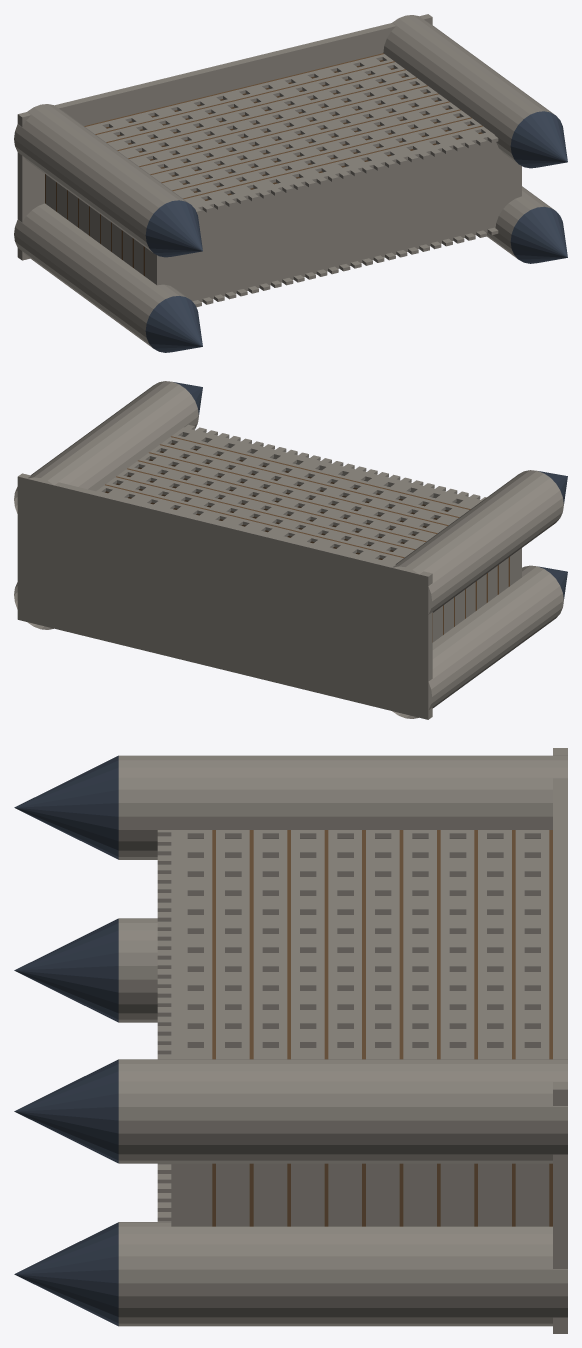
File: slott_10etasjer.obj
The picture shows the model from 3 angles, top to bottom: view 1: azimuth 30°, elevation 25°; view 2: azimuth 150°, elevation 25°; view 3: azimuth 270°, elevation 25°; orthographic projection. The views are drawn at different scales.
Parts seen in each view (by area): view 1: Tak_Krenelering, Fundament, Hjornetarn_4, Hjornetarn_1, Hjornetarn_3, Etasje_05_Vegger, Etasje_02_Vegger, Etasje_06_Vegger, Etasje_08_Vegger, Etasje_03_Vegger, Etasje_04_Vegger, Etasje_07_Vegger (+18 smaller); view 2: Fundament, Hjornetarn_4, Hjornetarn_1, Hjornetarn_3, Etasje_08_Vegger, Etasje_04_Vegger, Etasje_05_Vegger, Etasje_06_Vegger, Etasje_09_Vegger, Etasje_07_Vegger, Etasje_10_Vegger, Etasje_03_Vegger (+8 smaller); view 3: Hjornetarn_3, Hjornetarn_2, Hjornetarn_4, Etasje_01_Vegger, Etasje_03_Vegger, Etasje_08_Vegger, Etasje_10_Vegger, Etasje_02_Vegger, Etasje_04_Vegger, Etasje_05_Vegger, Etasje_06_Vegger, Etasje_07_Vegger (+18 smaller).
Part boxes in pixels (x1=…): Tak_Krenelering: x1=154, y1=133, x2=521, y2=307; Fundament: x1=17, y1=14, x2=432, y2=260; Hjornetarn_4: x1=14, y1=104, x2=189, y2=252; Hjornetarn_1: x1=14, y1=203, x2=188, y2=347; Hjornetarn_3: x1=383, y1=15, x2=554, y2=163; Etasje_05_Vegger: x1=90, y1=86, x2=437, y2=243; Etasje_02_Vegger: x1=57, y1=62, x2=404, y2=218; Etasje_06_Vegger: x1=101, y1=94, x2=448, y2=251; Etasje_08_Vegger: x1=123, y1=110, x2=470, y2=266; Etasje_03_Vegger: x1=68, y1=70, x2=415, y2=226; Etasje_04_Vegger: x1=79, y1=78, x2=426, y2=235; Etasje_07_Vegger: x1=112, y1=102, x2=459, y2=258; Fundament: x1=17, y1=473, x2=432, y2=719; Hjornetarn_4: x1=392, y1=470, x2=563, y2=614; Hjornetarn_1: x1=392, y1=565, x2=563, y2=718; Hjornetarn_3: x1=14, y1=381, x2=198, y2=513; Etasje_08_Vegger: x1=150, y1=445, x2=497, y2=601; Etasje_04_Vegger: x1=106, y1=477, x2=453, y2=634; Etasje_05_Vegger: x1=117, y1=469, x2=464, y2=625; Etasje_06_Vegger: x1=128, y1=461, x2=475, y2=617; Etasje_09_Vegger: x1=161, y1=437, x2=508, y2=593; Etasje_07_Vegger: x1=139, y1=453, x2=486, y2=609; Etasje_10_Vegger: x1=172, y1=429, x2=519, y2=585; Etasje_03_Vegger: x1=96, y1=485, x2=442, y2=642; Hjornetarn_3: x1=118, y1=1059, x2=567, y2=1163; Hjornetarn_2: x1=118, y1=1222, x2=567, y2=1326; Hjornetarn_4: x1=118, y1=755, x2=567, y2=859; Etasje_01_Vegger: x1=515, y1=830, x2=549, y2=1226; Etasje_03_Vegger: x1=440, y1=830, x2=474, y2=1226; Etasje_08_Vegger: x1=253, y1=830, x2=287, y2=1226; Etasje_10_Vegger: x1=178, y1=830, x2=212, y2=1226; Etasje_02_Vegger: x1=478, y1=830, x2=511, y2=1226; Etasje_04_Vegger: x1=403, y1=830, x2=436, y2=1226; Etasje_05_Vegger: x1=366, y1=830, x2=399, y2=1226; Etasje_06_Vegger: x1=328, y1=830, x2=361, y2=1226; Etasje_07_Vegger: x1=291, y1=830, x2=324, y2=1226.
Bounding box in the file's own units: 110 × 38 × 74.
